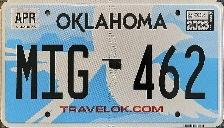2: (181, 42, 209, 102)
4: (131, 42, 157, 101)
6: (157, 43, 181, 100)
G: (66, 43, 91, 101)
I: (39, 43, 65, 101)
M: (11, 41, 40, 101)
